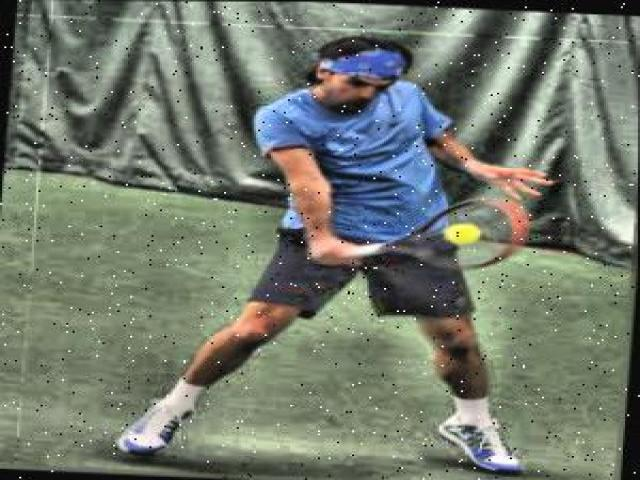tennis-ball: (446, 222, 482, 245)
